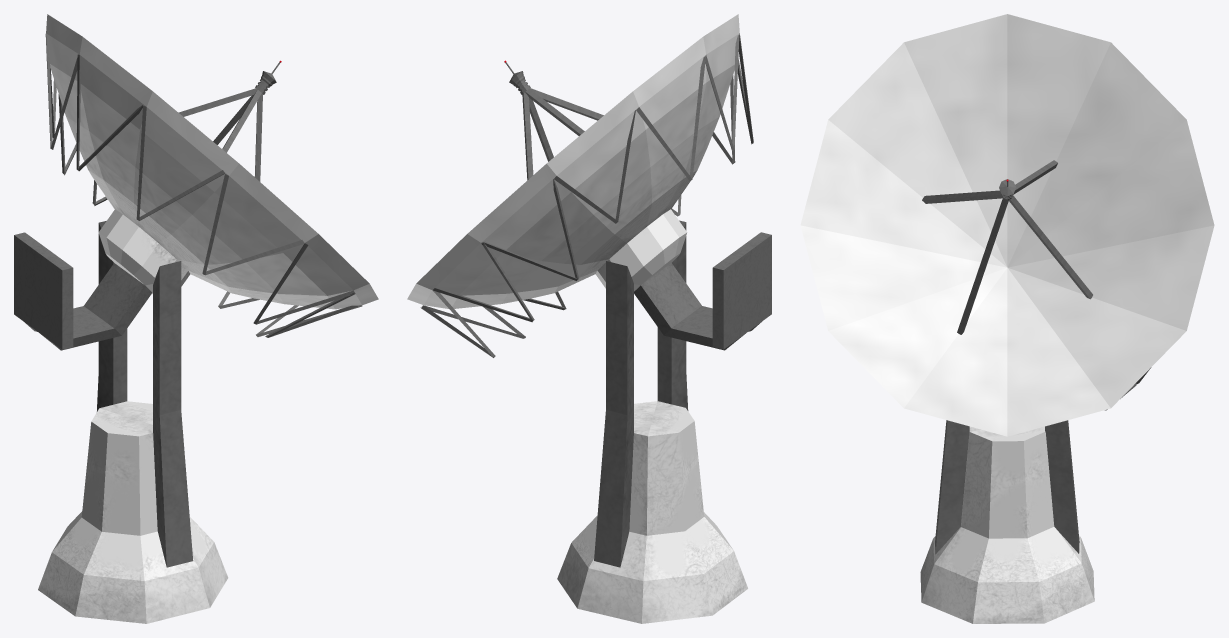
File: antena.glb
3 views of the same model, side by side, from view 1: azimuth 30°, elevation 25°; view 2: azimuth 150°, elevation 25°; view 3: azimuth 270°, elevation 25° (orthographic). The views are drawn at different scales.
Bounding box in the file's own units: 17.44 × 30.54 × 20.89.
Materials: 1 (1 with a texture image).
